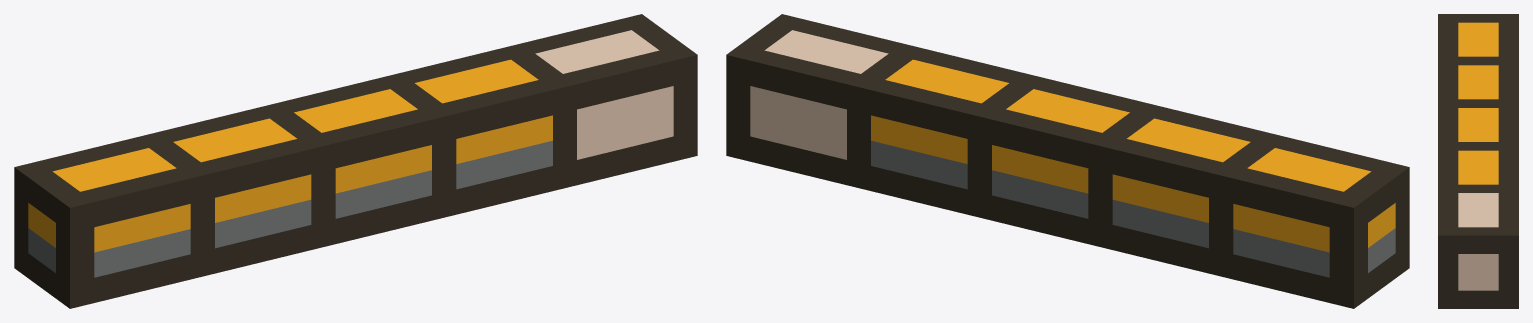
The model's file is meter_4.gltf.
The picture shows the model from 3 angles, left to right: view 1: azimuth 30°, elevation 25°; view 2: azimuth 150°, elevation 25°; view 3: azimuth 270°, elevation 25°; orthographic projection. The views are drawn at different scales.
Size of the model in its own units: 2.6 by 0.4 by 0.4.
Materials: 1 (1 with a texture image).
